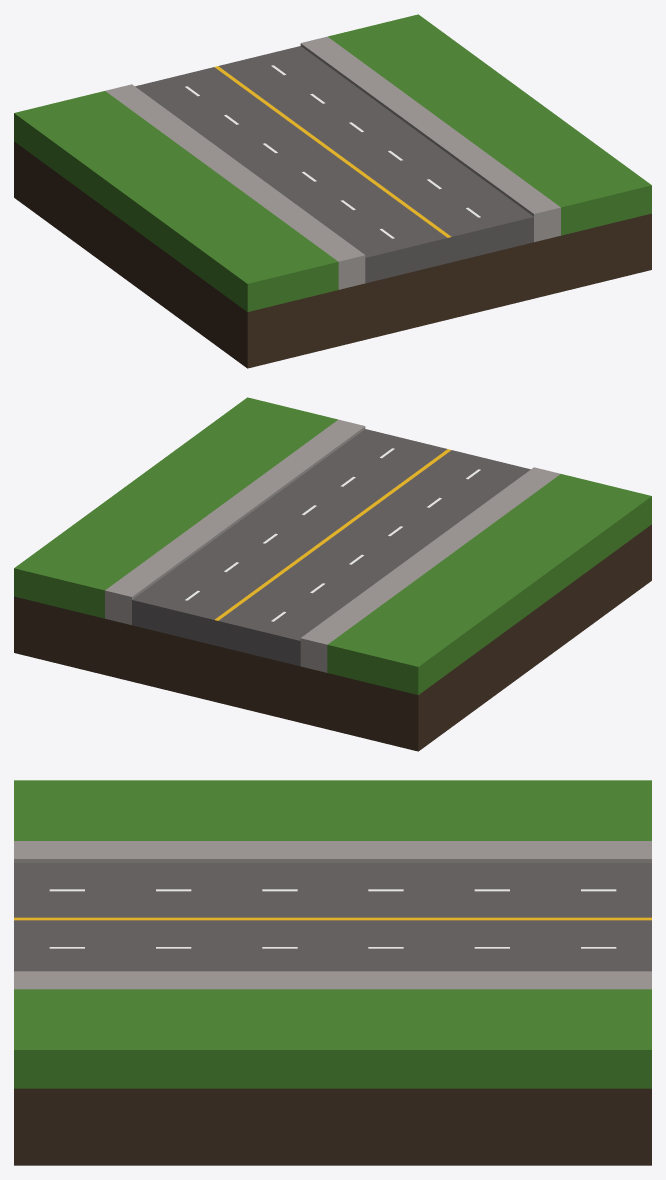
The model's file is tile-mainroad-straight.fbx.
3 views of the same model, one above another, from view 1: azimuth 30°, elevation 25°; view 2: azimuth 150°, elevation 25°; view 3: azimuth 270°, elevation 25° (orthographic). The views are drawn at different scales.
Visible parts, largest first — view 1: tile-mainroad-straight; view 2: tile-mainroad-straight; view 3: tile-mainroad-straight.
Boxes of the visible parts, x1,y1,x2,y2 form: tile-mainroad-straight: (14, 14, 651, 368); tile-mainroad-straight: (14, 397, 651, 751); tile-mainroad-straight: (14, 780, 651, 1165).
Size of the model in its own units: 30 by 6 by 30.
